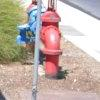a fire hydrant: (41, 13, 65, 58)
